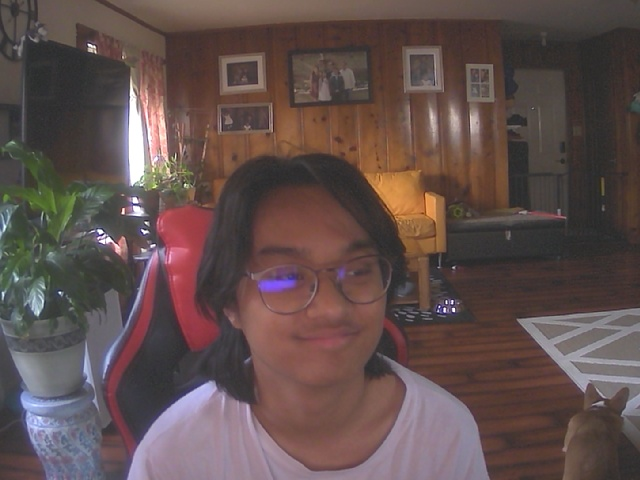happy: (215, 159, 400, 389)
